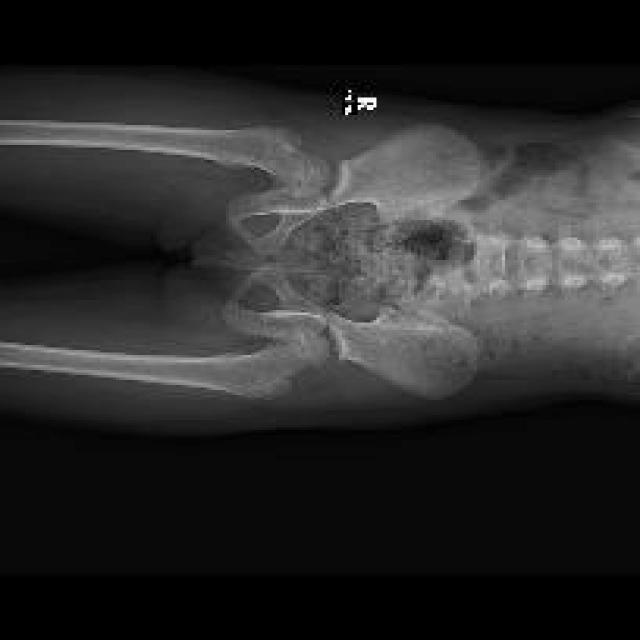normal: (0, 120, 478, 255), (0, 261, 478, 395)
